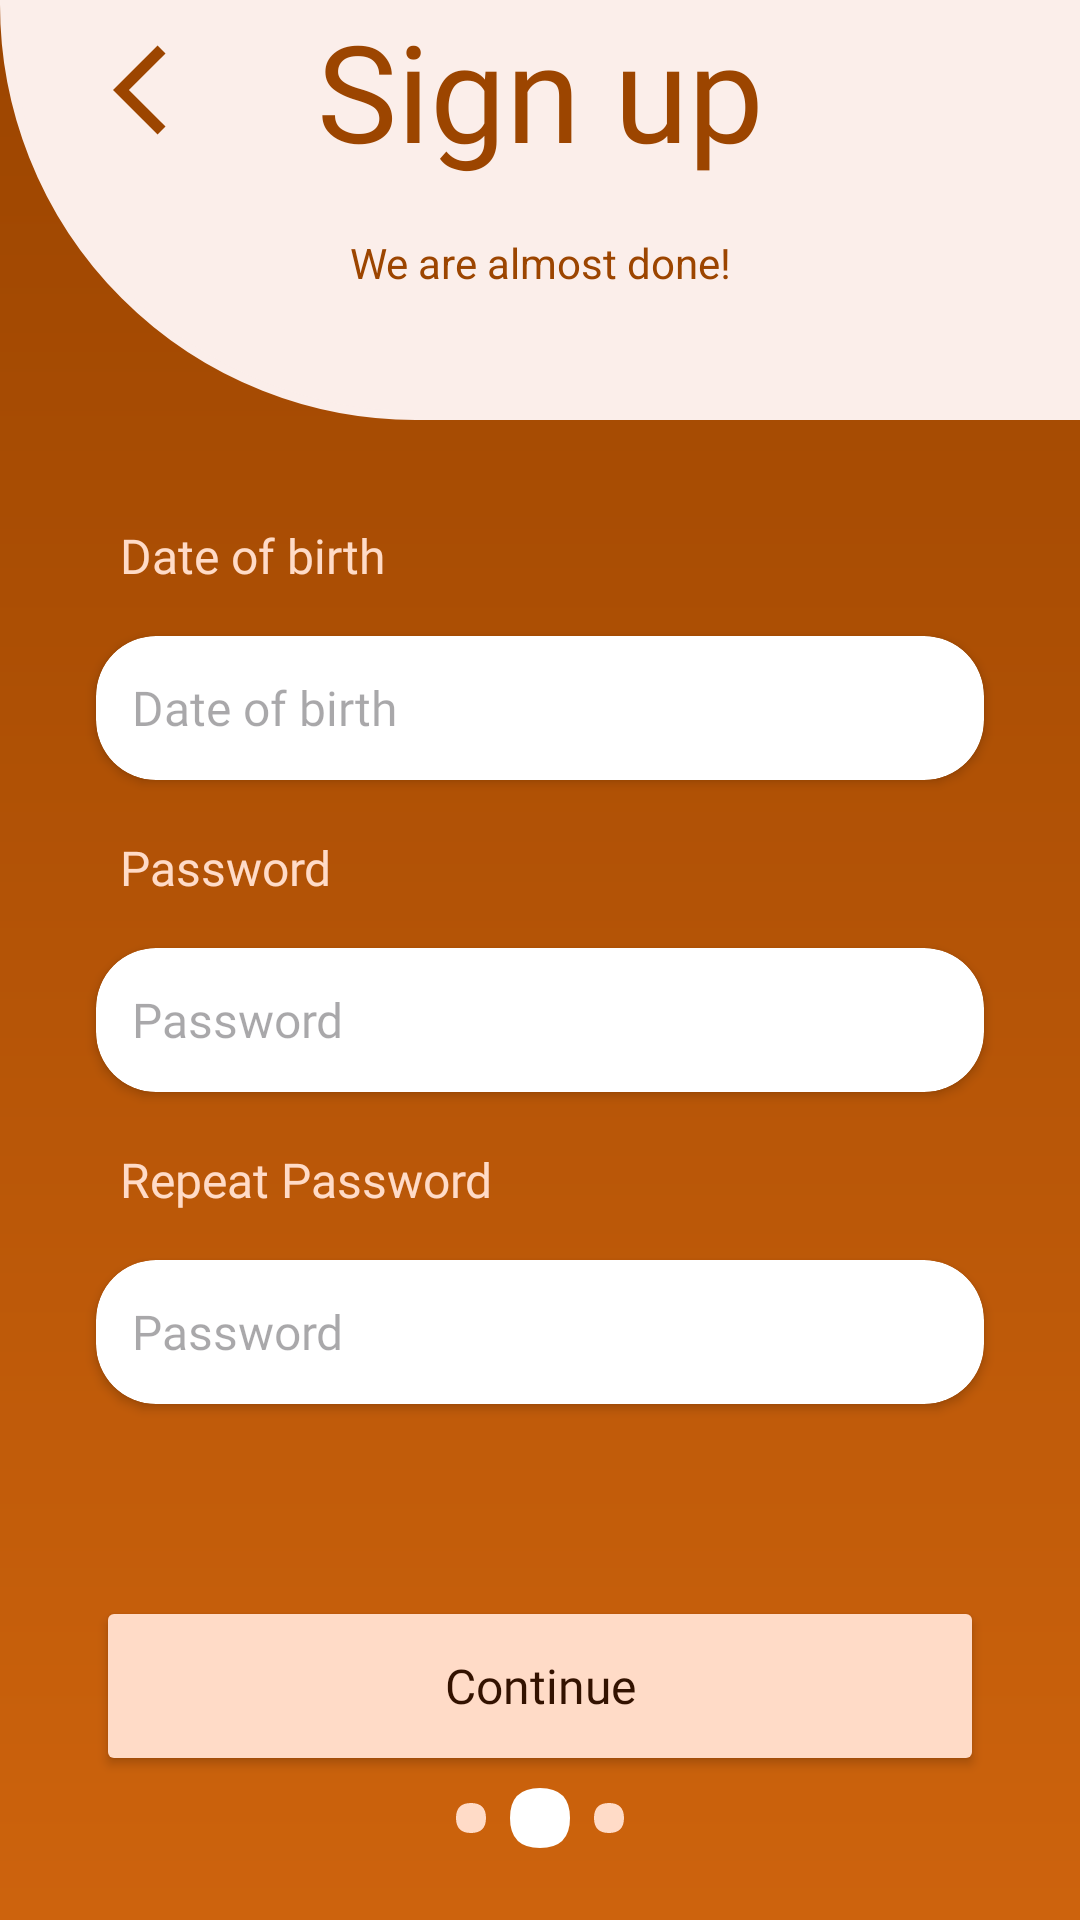

Icons on this 1080w x 1920h Android screen, each with the point to tap as [x,y]:
dots: [540,1818]
